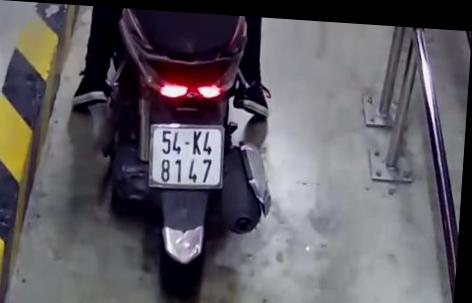License_Plate: (143, 119, 231, 203)
